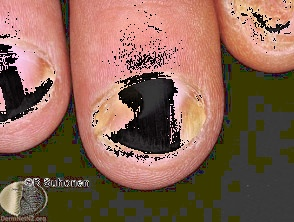Nail_psoriasis: (72, 47, 228, 185), (0, 35, 66, 136), (221, 1, 294, 72)
